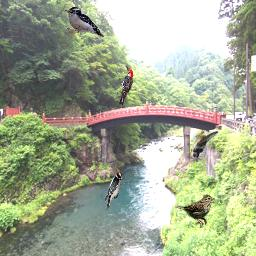Sparrow: (175, 194, 215, 228)
Swallow: (192, 131, 224, 158)
Woodpecker: (64, 7, 104, 37), (105, 171, 124, 211), (117, 65, 133, 105)
